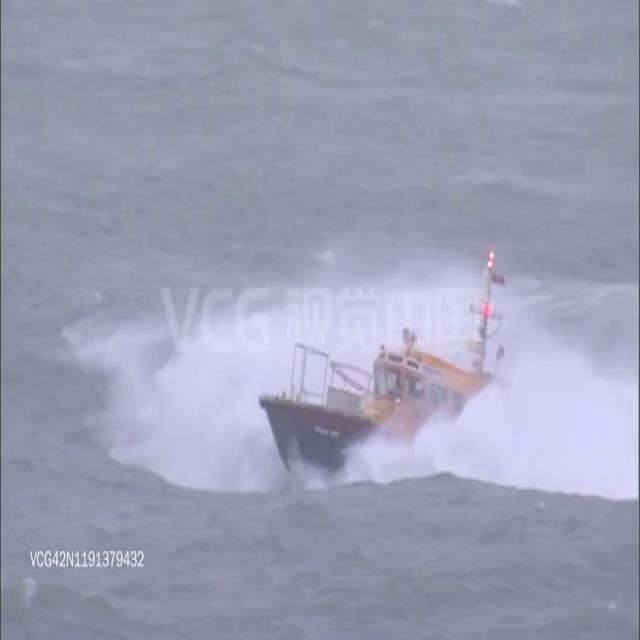houseboat: (258, 252, 516, 496)
